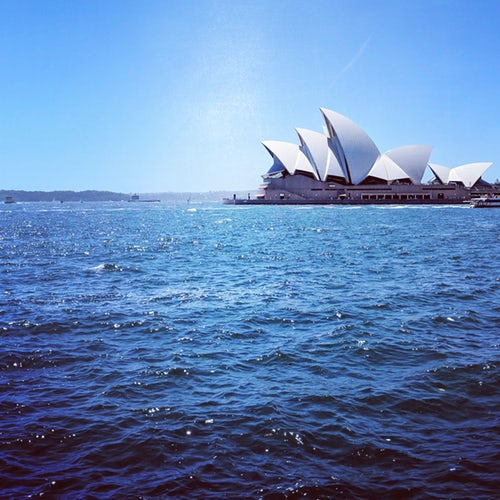opera house: (229, 90, 497, 215)
